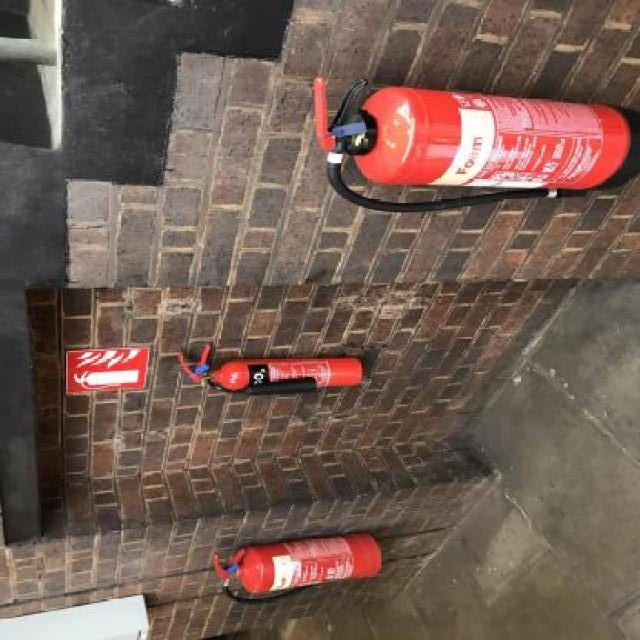fire extinguisher: (325, 83, 623, 214), (216, 534, 384, 589), (180, 349, 363, 395)
